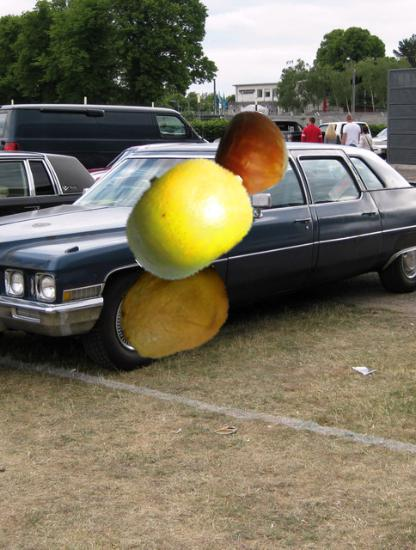Nut: (210, 112, 297, 199)
Papaya: (115, 250, 230, 365)
Pomelo: (120, 151, 255, 286)
